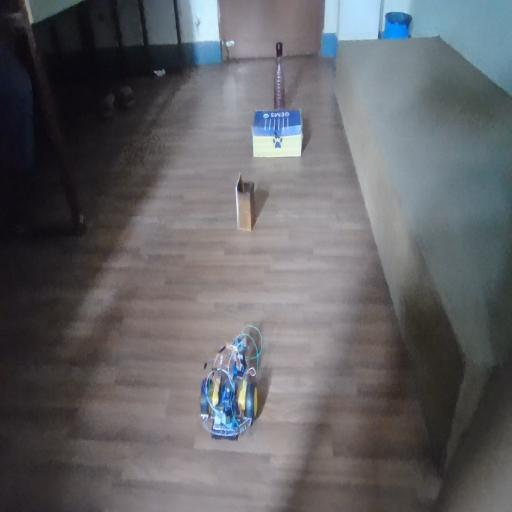Bottle: (263, 31, 295, 106)
car: (199, 307, 284, 446)
